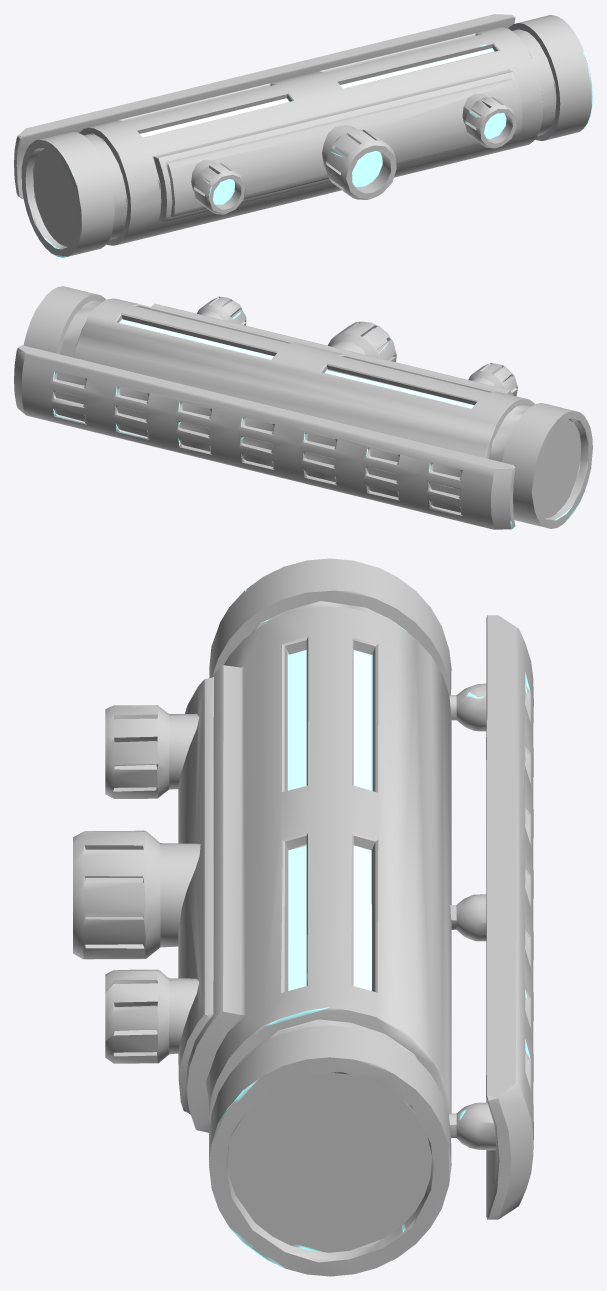
The model's file is Paddle (1).fbx.
3 renders of one model, top to bottom at view 1: azimuth 30°, elevation 25°; view 2: azimuth 150°, elevation 25°; view 3: azimuth 270°, elevation 25°, orthographic. The views are drawn at different scales.
Parts seen in each view (by area): view 1: Cylinder.001; view 2: Cylinder.001; view 3: Cylinder.001.
Boxes of the visible parts, box(x1,y1,x2,y2) form: Cylinder.001: box(14, 14, 592, 257); Cylinder.001: box(14, 286, 592, 529); Cylinder.001: box(73, 558, 533, 1276).
Size of the model in its own units: 61.92 by 12.75 by 24.16.
